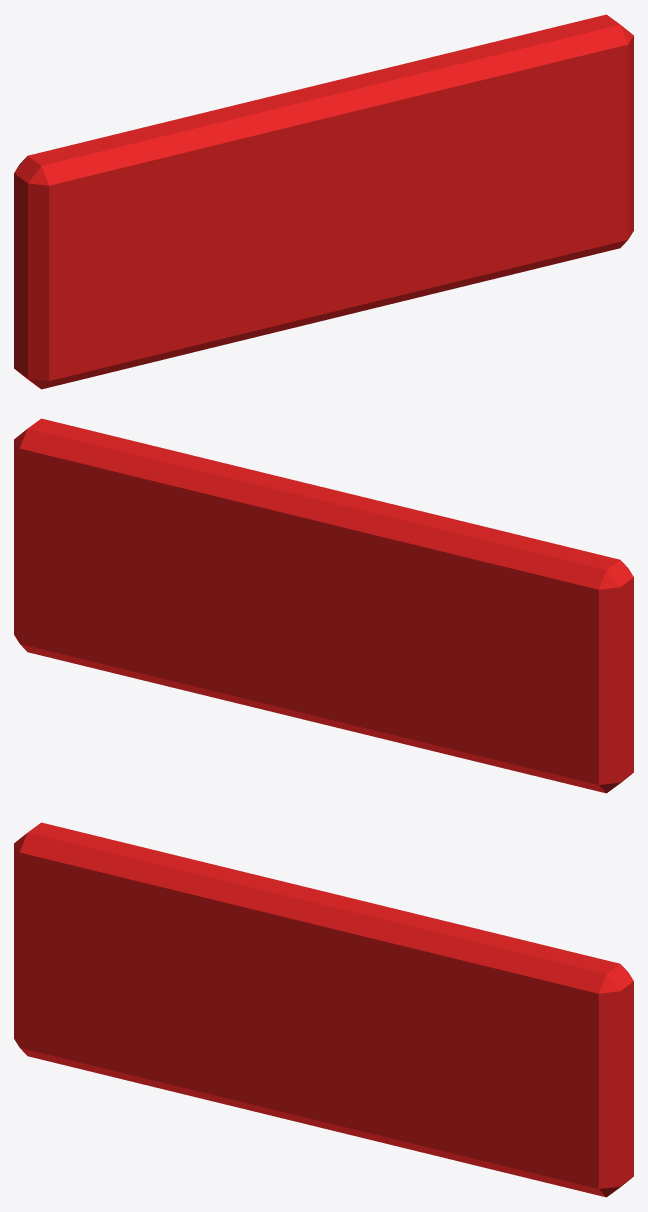
Rendered from Hint.fbx.
3 renders of one model, top to bottom at view 1: azimuth 30°, elevation 25°; view 2: azimuth 150°, elevation 25°; view 3: azimuth 330°, elevation 25°, orthographic.
Parts seen in each view (by area): view 1: Hint; view 2: Hint; view 3: Hint.
Boxes of the visible parts, x1,y1,x2,y2 form: Hint: (14, 14, 633, 389); Hint: (14, 418, 633, 793); Hint: (14, 822, 633, 1197).
Size of the model in its own units: 449 by 37.87 by 158.
